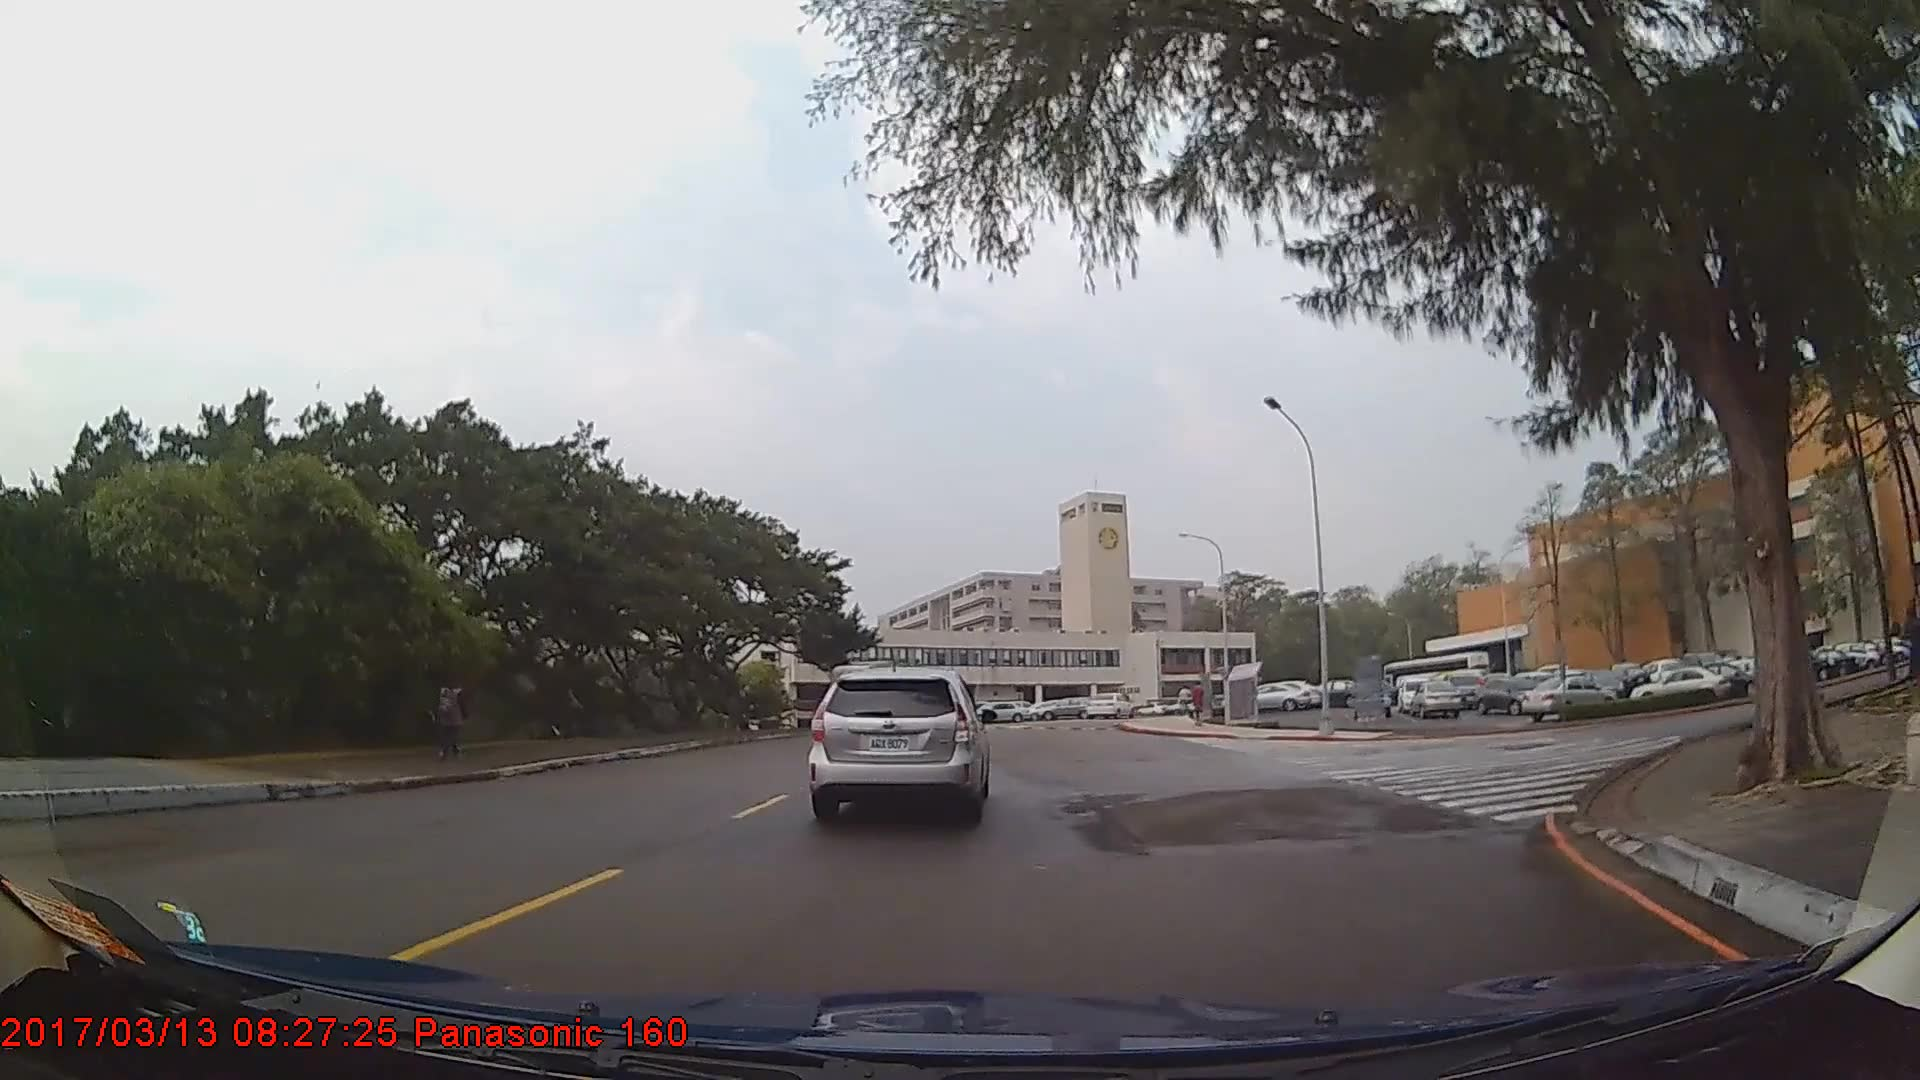pedestrian: (430, 664, 474, 757)
vehicle: (808, 665, 988, 822), (1518, 673, 1615, 722), (1628, 662, 1728, 708), (1475, 673, 1551, 713), (1411, 678, 1462, 718), (1242, 682, 1311, 711), (1079, 690, 1135, 722), (1030, 695, 1095, 718), (972, 697, 1029, 720)
